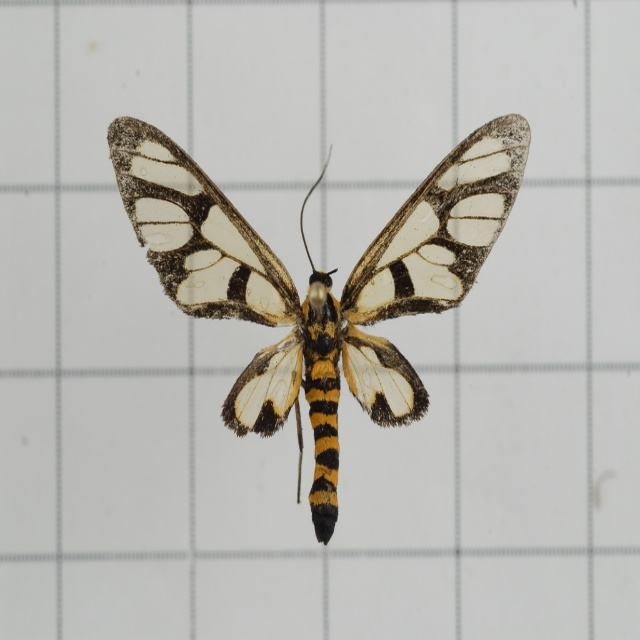Butterfly: (95, 114, 544, 543)
